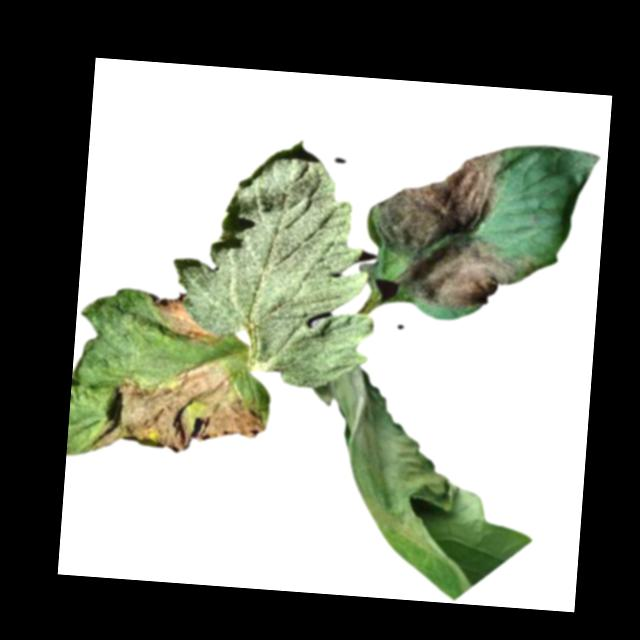Late_blight: (314, 366, 543, 605), (369, 135, 549, 314), (88, 349, 272, 459), (148, 292, 223, 341)
